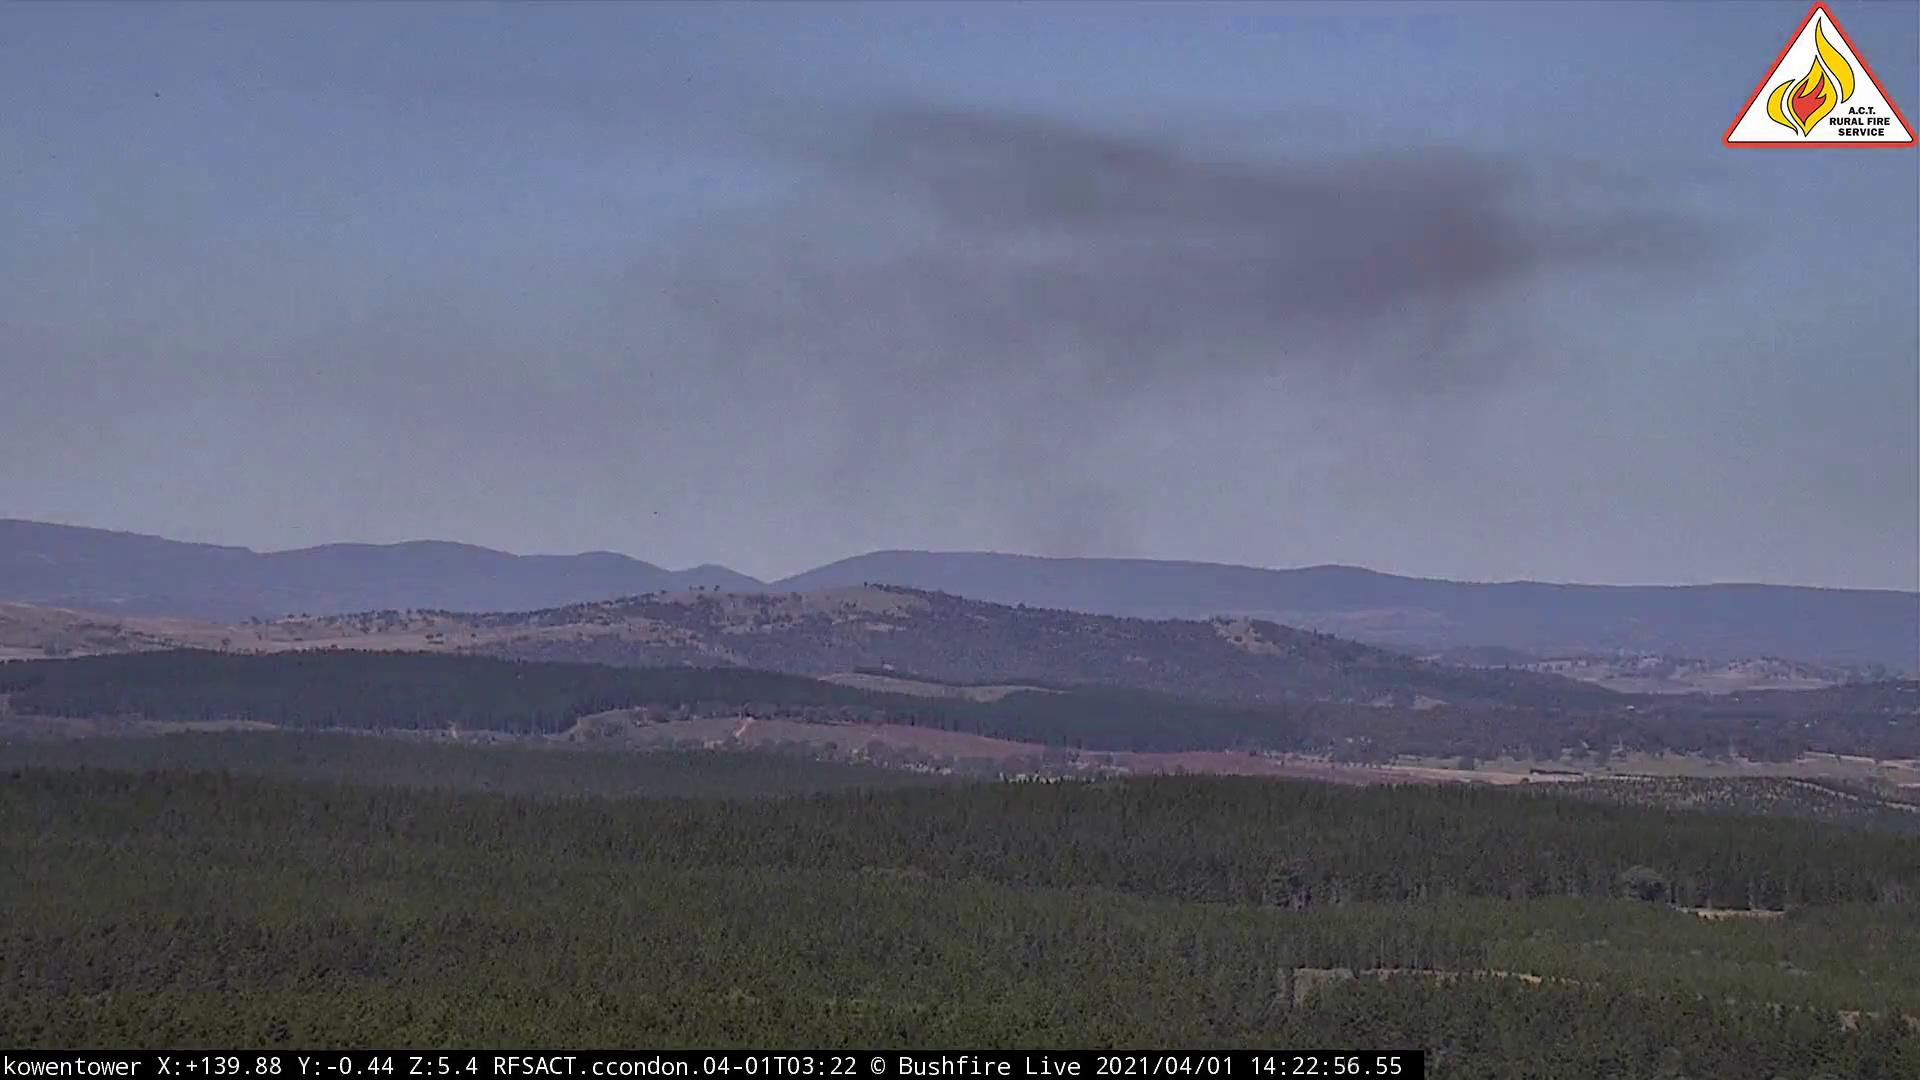Smoke: (626, 79, 1673, 593)
